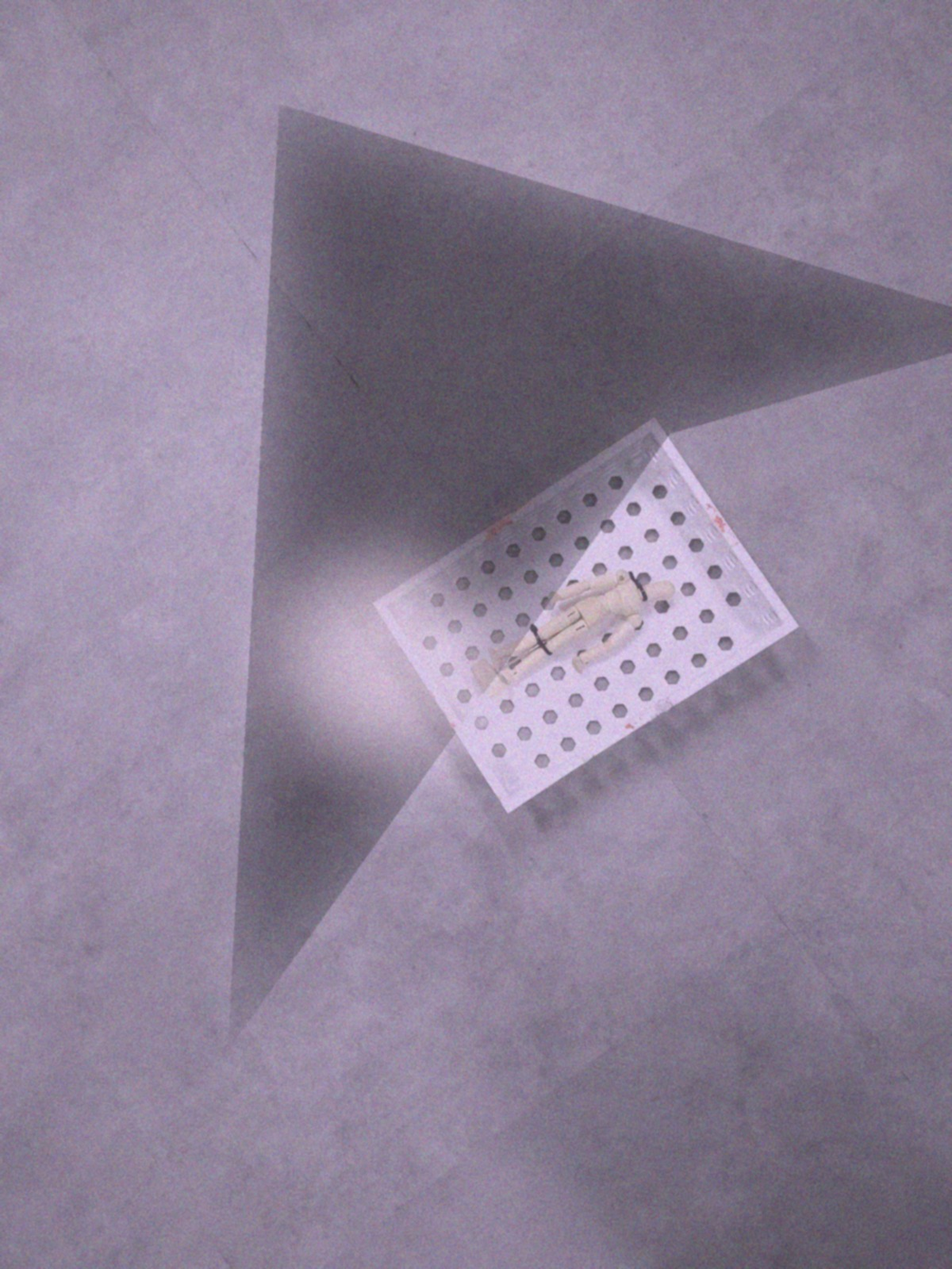basket: (370, 412, 803, 821)
mannequin: (467, 569, 677, 706)
